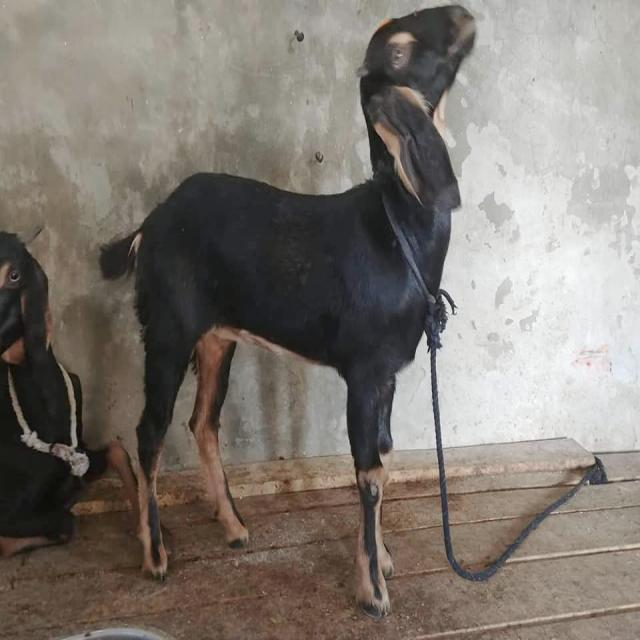Goat: (99, 4, 479, 620), (1, 223, 157, 565)
